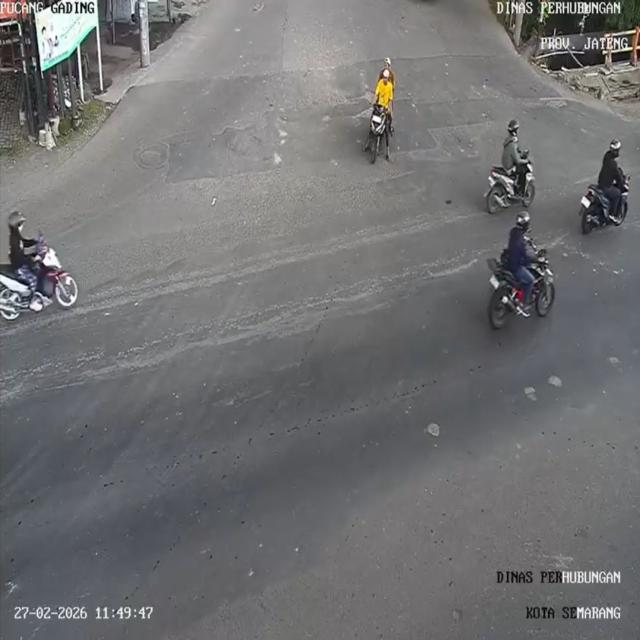motorcycle: (0, 248, 82, 322), (485, 252, 561, 328), (576, 175, 631, 233), (483, 162, 539, 214), (369, 102, 392, 167)
person: (504, 208, 542, 284), (1, 203, 41, 269), (597, 140, 625, 198), (503, 116, 525, 176), (375, 68, 393, 111), (379, 55, 397, 84)
rider_region: (0, 210, 79, 322), (486, 210, 558, 330), (486, 115, 536, 216), (580, 138, 630, 236), (362, 55, 398, 168)
